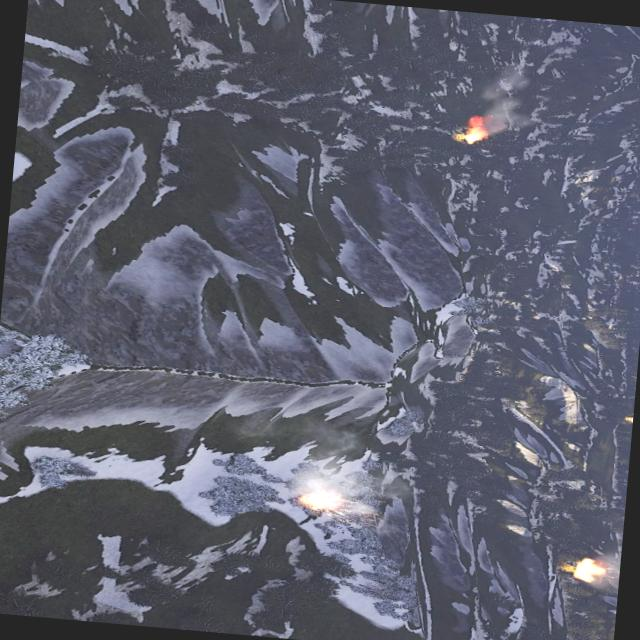fire: (298, 488, 342, 512), (570, 556, 604, 582), (458, 126, 484, 148), (623, 414, 633, 422)
smoke: (214, 404, 420, 539), (468, 67, 530, 139), (586, 548, 621, 590)
